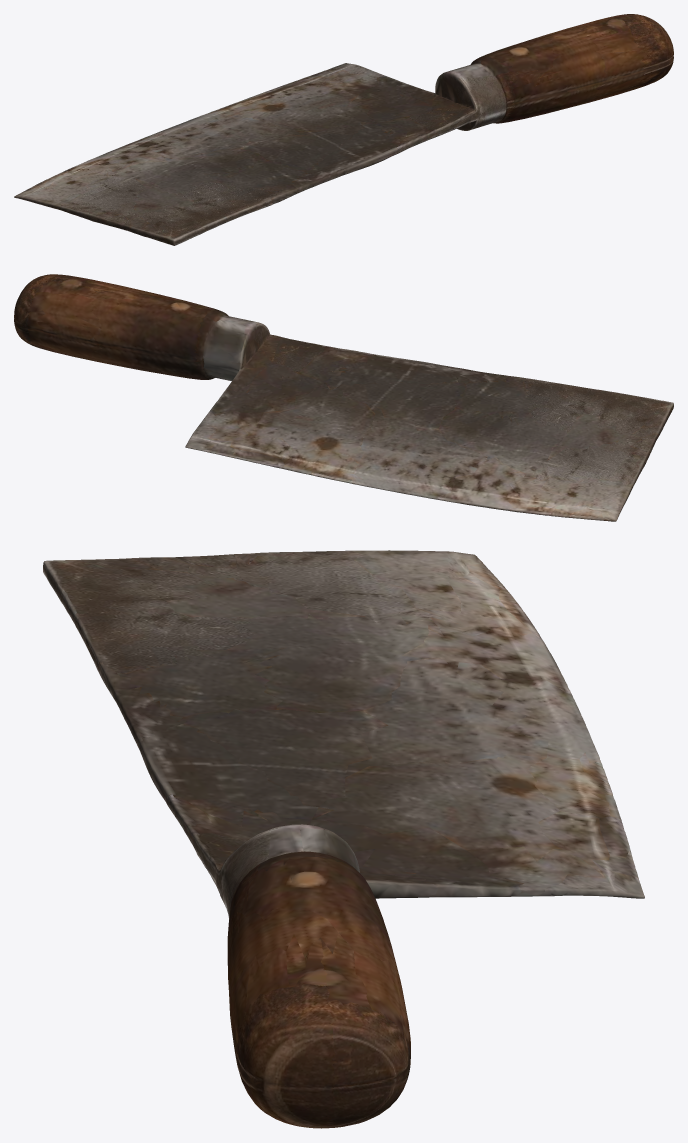
File: d_knife.glb
The picture shows the model from 3 angles, top to bottom: view 1: azimuth 30°, elevation 25°; view 2: azimuth 150°, elevation 25°; view 3: azimuth 270°, elevation 25°; orthographic projection. The views are drawn at different scales.
Size of the model in its own units: 1.5 by 0.1538 by 0.6412.
Materials: 1 (1 with a texture image).
